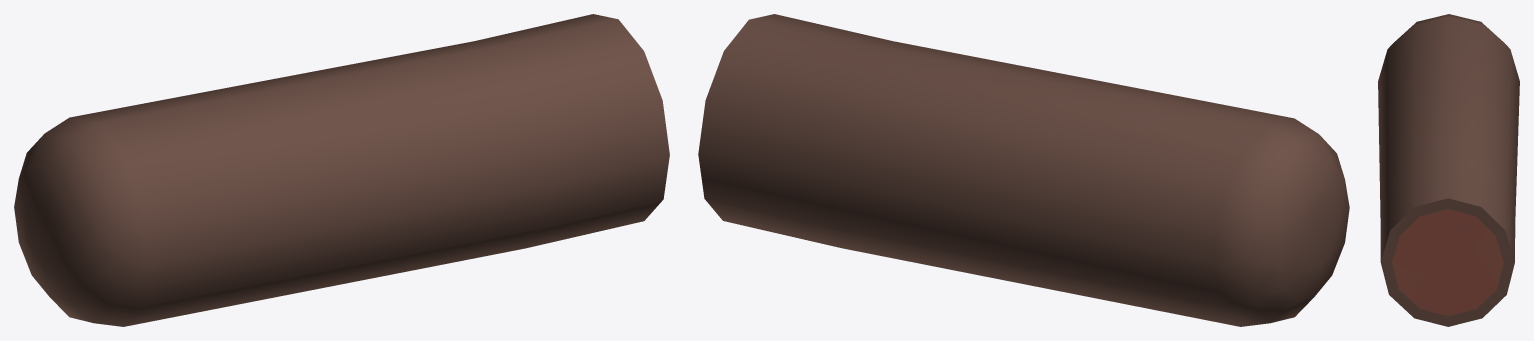
The model's file is Sausage_half.006.fbx.
The picture shows the model from 3 angles, left to right: view 1: azimuth 30°, elevation 25°; view 2: azimuth 150°, elevation 25°; view 3: azimuth 270°, elevation 25°; orthographic projection. The views are drawn at different scales.
Visible parts, largest first — view 1: Sausage_half.006; view 2: Sausage_half.006; view 3: Sausage_half.006.
Part boxes in pixels (x1,y1,x2,y2): Sausage_half.006: (14,14,669,326); Sausage_half.006: (698,14,1349,326); Sausage_half.006: (1378,14,1519,326).
Bounding box in the file's own units: 79.77 × 25.95 × 28.84.
